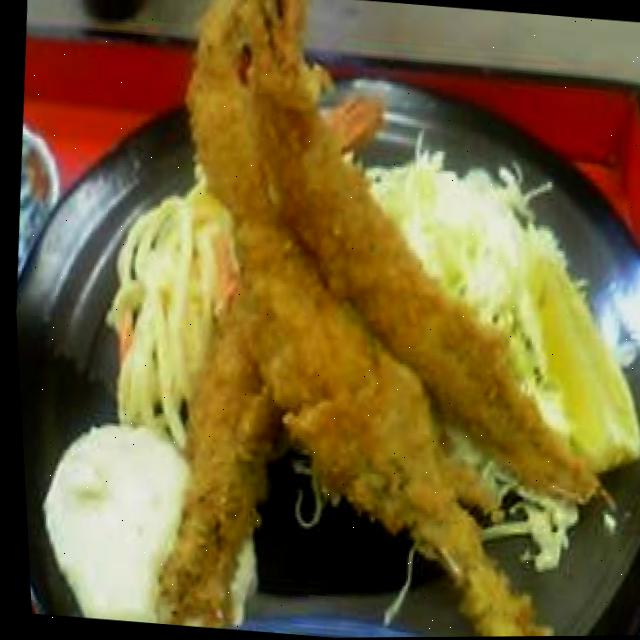炸货点心: (110, 0, 640, 639)
熟制海鲜: (110, 0, 640, 639)
